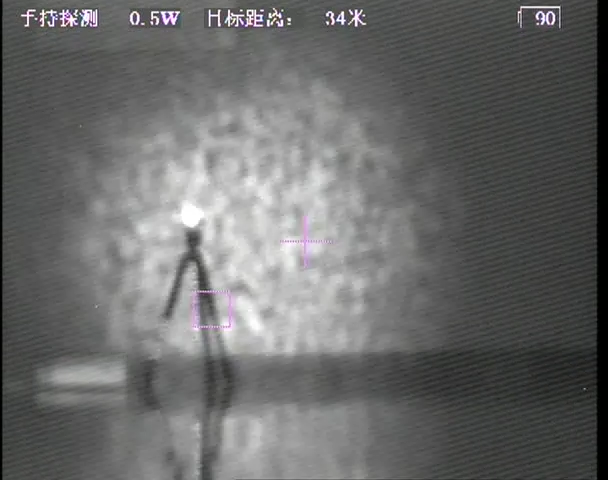my: (179, 201, 205, 227)
